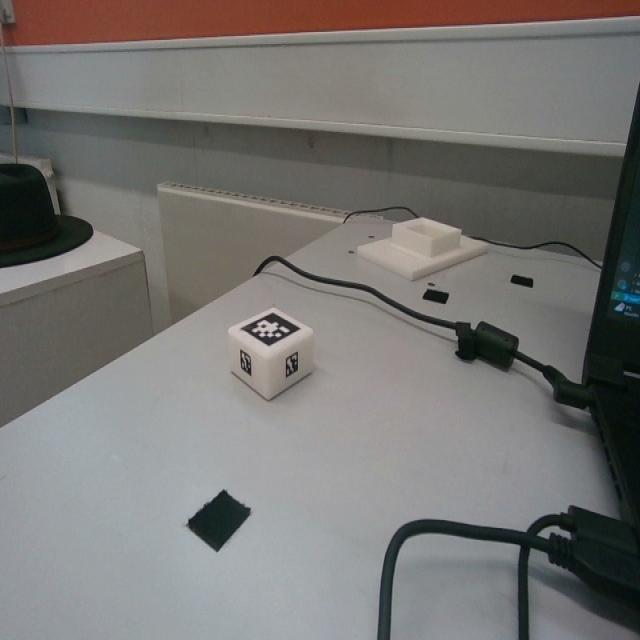Cube: (226, 303, 314, 400)
